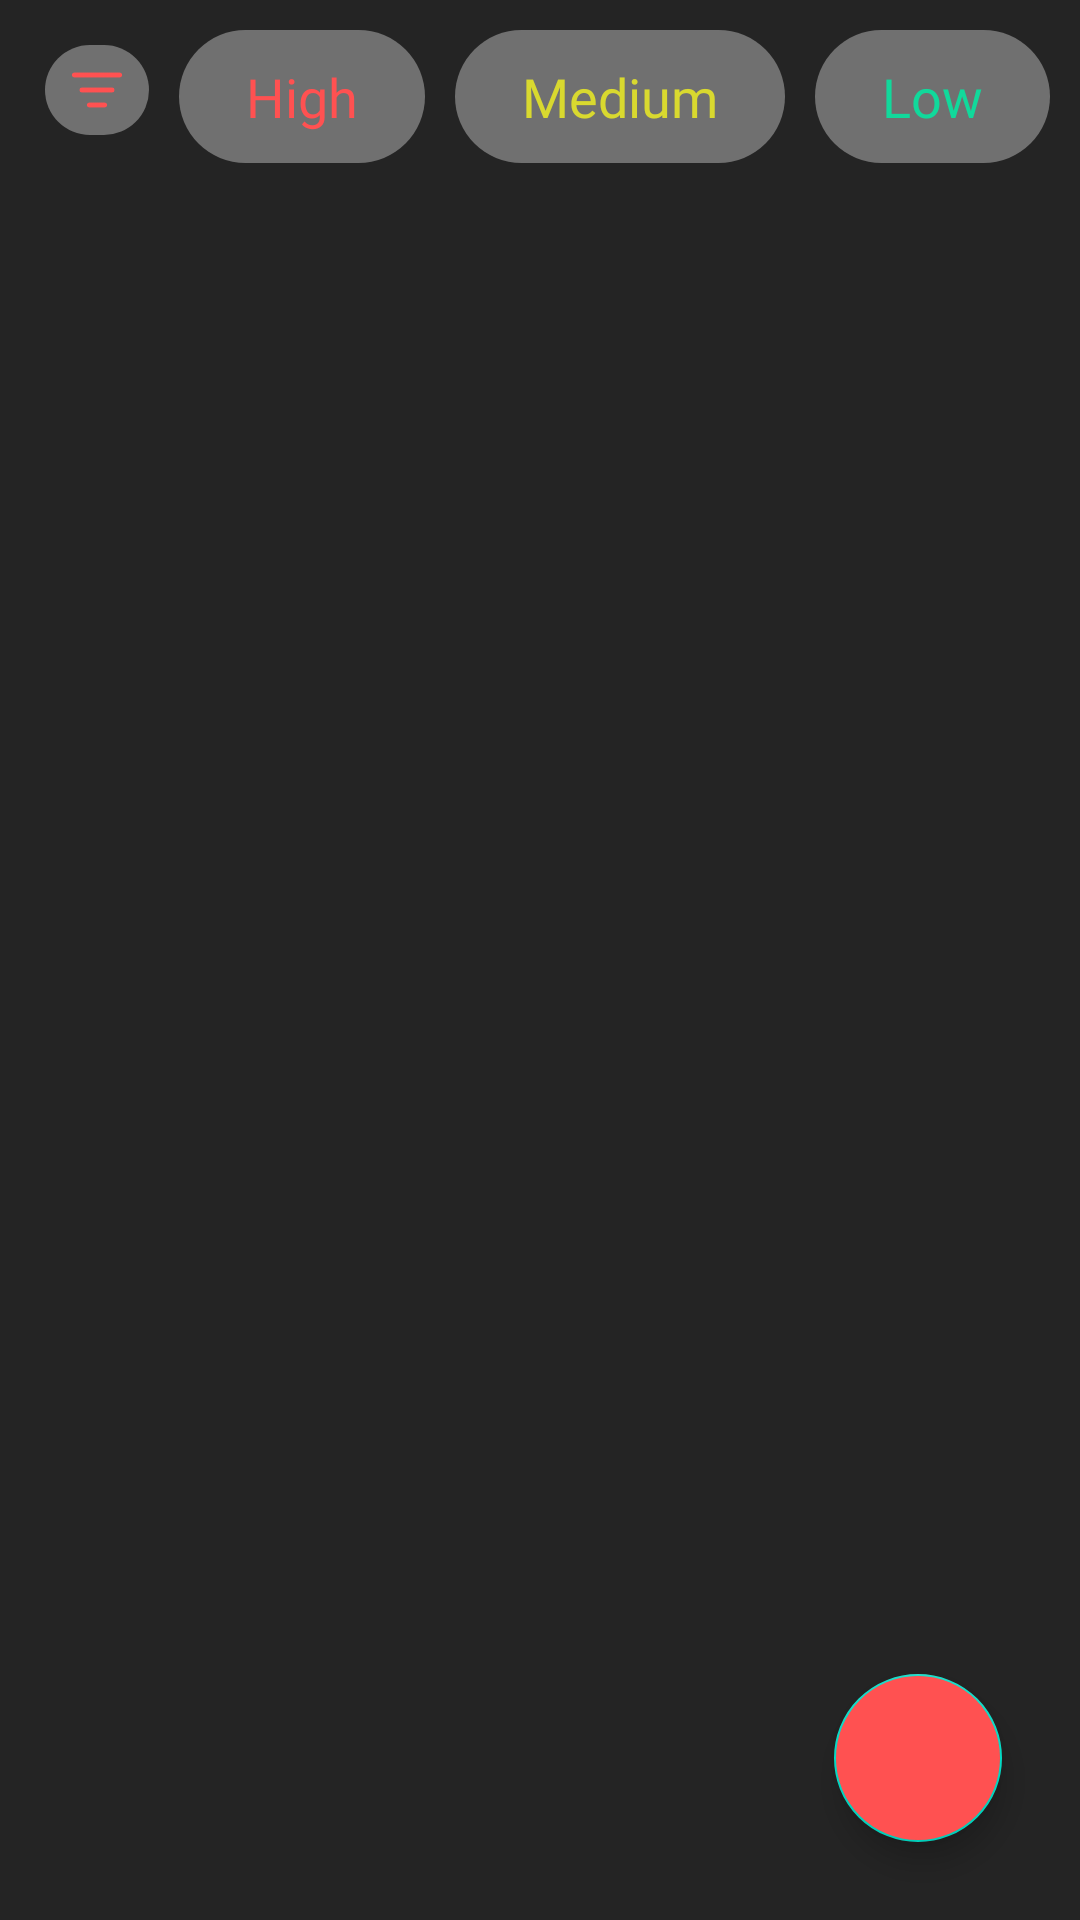

Icons on this 1080px x 1920px Android screen, each with its box as Rect(x1, y1, x2, y2):
filter: Rect(45, 45, 149, 135)
